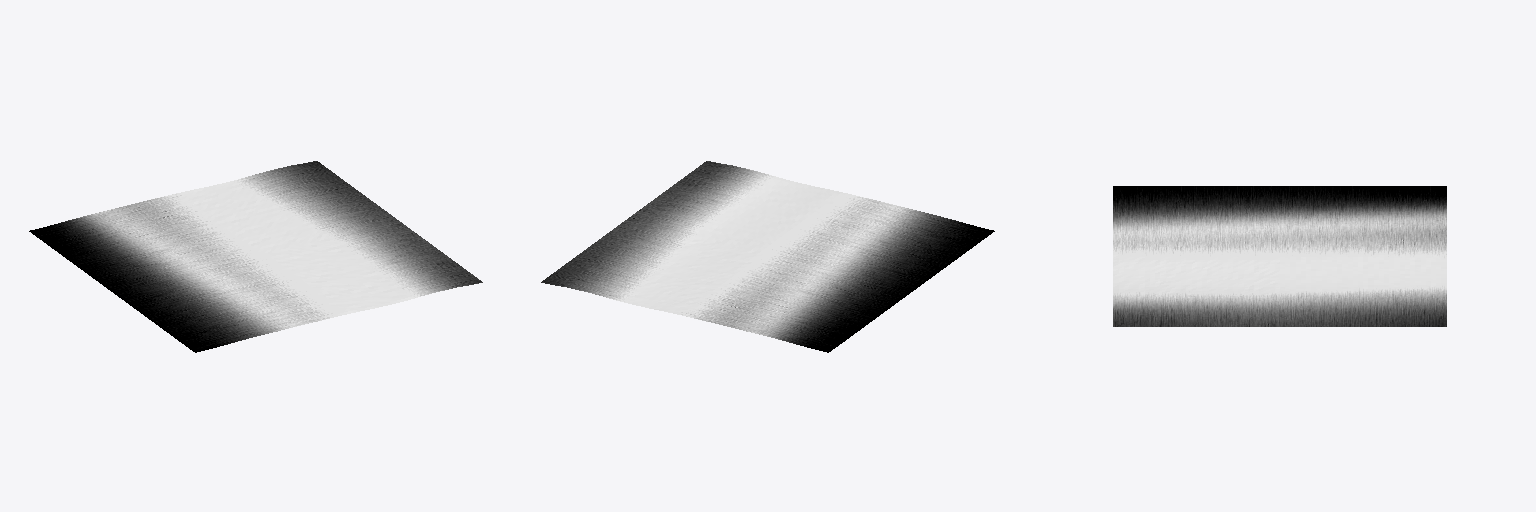
3 renders of one model, left to right at view 1: azimuth 30°, elevation 25°; view 2: azimuth 150°, elevation 25°; view 3: azimuth 270°, elevation 25°, orthographic.
Visible parts, largest first — view 1: metalHeight_Plane.011; view 2: metalHeight_Plane.011; view 3: metalHeight_Plane.011.
Part boxes in pixels (left/top/right/bottom): metalHeight_Plane.011: left=29, top=161, right=482, bottom=352; metalHeight_Plane.011: left=541, top=161, right=994, bottom=352; metalHeight_Plane.011: left=1113, top=186, right=1446, bottom=326.
Size of the model in its own units: 2 by 0.01 by 2.
Materials: 1 (1 with a texture image).